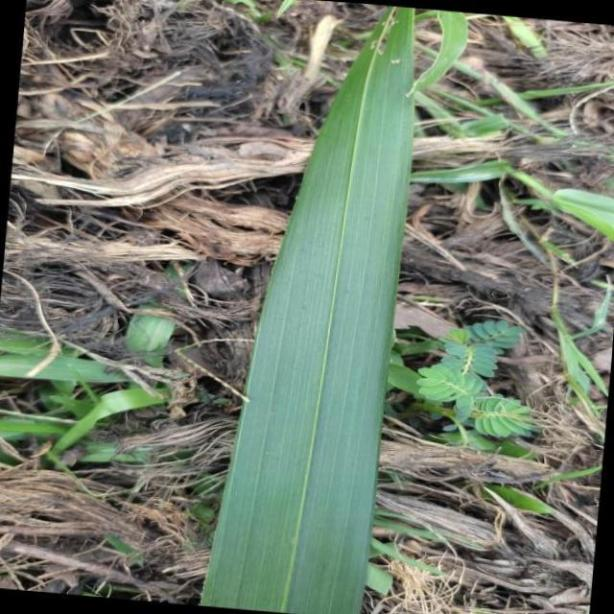Boron: (205, 0, 422, 614)
